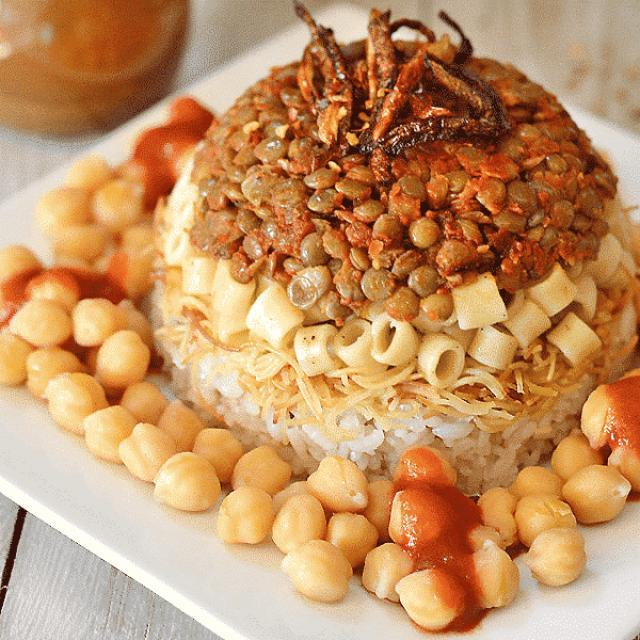koshary: (114, 34, 636, 594)
